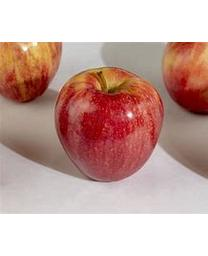apple: (53, 65, 163, 181), (0, 43, 62, 102), (161, 42, 207, 114)
